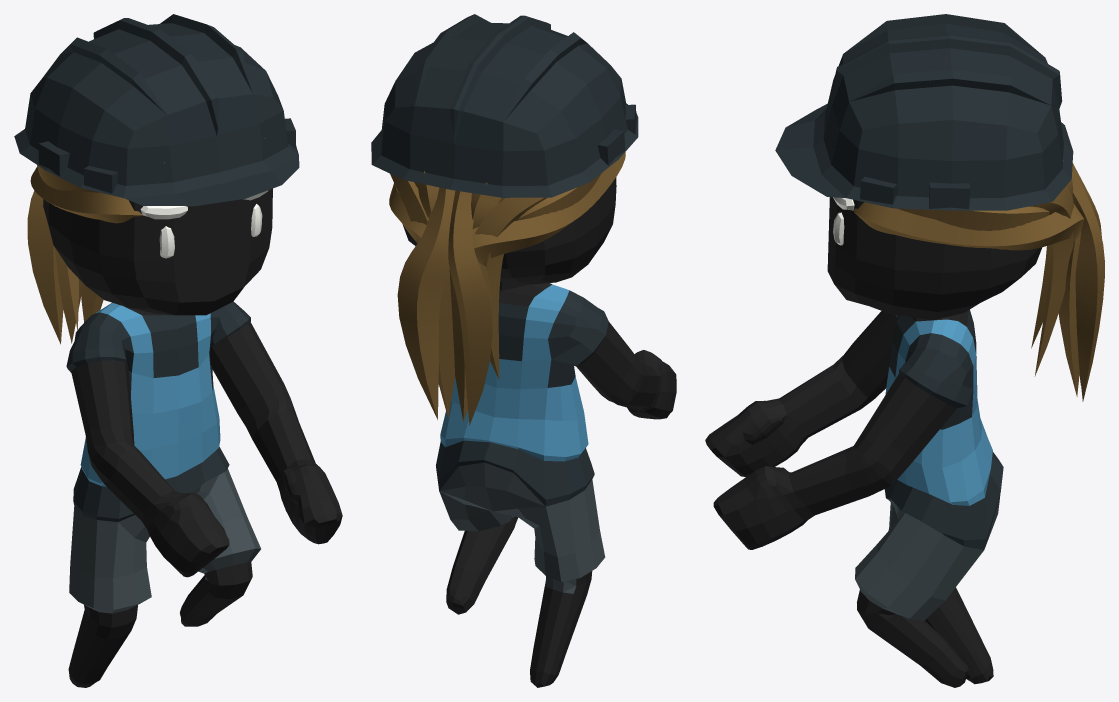
The model's file is responder-police.glb.
3 renders of one model, left to right at view 1: azimuth 30°, elevation 25°; view 2: azimuth 150°, elevation 25°; view 3: azimuth 270°, elevation 25°, orthographic. The views are drawn at different scales.
Visible parts, largest first — view 1: Body.001; view 2: Body.001; view 3: Body.001.
Part boxes in pixels (x1,y1,x2,y2): Body.001: (14, 14, 342, 687); Body.001: (371, 14, 676, 687); Body.001: (705, 14, 1104, 687).
Size of the model in its own units: 1.24 by 3.39 by 1.82.
